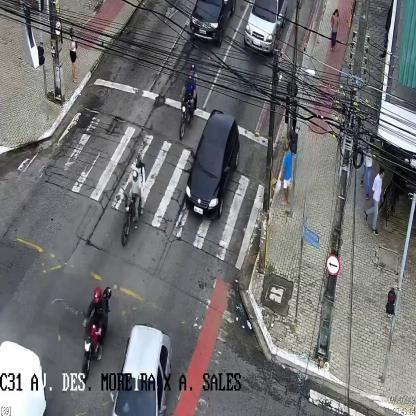car: (186, 108, 240, 218), (110, 322, 172, 415), (189, 0, 237, 48), (244, 0, 286, 50)
motorbike: (82, 287, 110, 383), (121, 154, 145, 247), (180, 64, 198, 138)
person: (366, 166, 385, 240), (359, 136, 375, 200), (280, 142, 292, 206), (68, 24, 77, 86), (330, 9, 338, 52)
